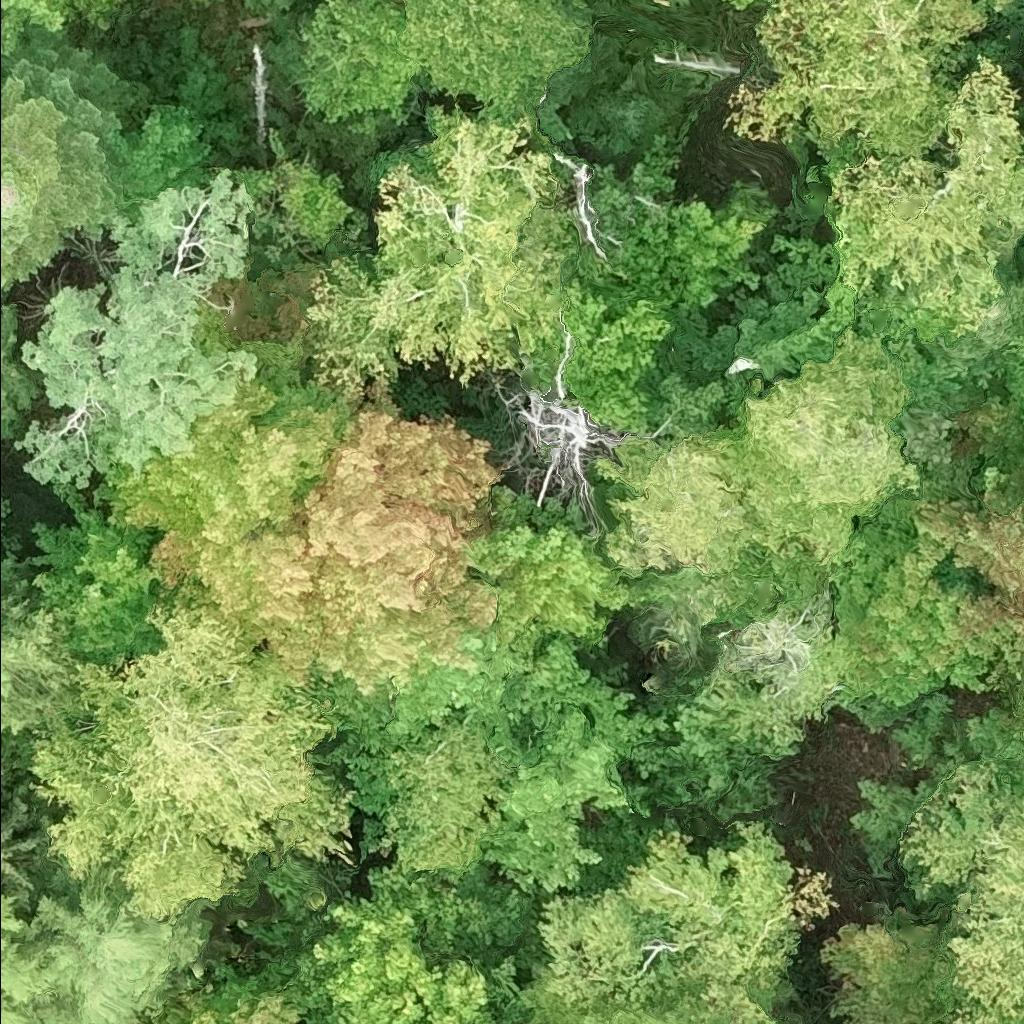crown: (110, 347, 498, 695), (28, 600, 361, 922), (307, 108, 572, 406), (19, 172, 264, 492), (518, 815, 799, 1023), (831, 55, 1023, 327), (828, 466, 1023, 711), (720, 336, 924, 558), (727, 0, 1004, 151), (564, 140, 777, 320), (303, 0, 592, 129), (906, 760, 1023, 1023), (0, 51, 127, 292), (30, 486, 171, 673), (29, 881, 210, 1023), (299, 903, 503, 1023), (600, 435, 770, 578), (375, 713, 519, 879), (523, 281, 676, 432), (470, 520, 630, 647), (492, 380, 618, 526), (0, 586, 76, 741), (825, 923, 936, 1023), (149, 981, 309, 1023), (0, 896, 46, 1023), (0, 303, 40, 437), (0, 0, 102, 48), (577, 1001, 701, 1023), (246, 0, 304, 15), (189, 0, 227, 4), (656, 0, 669, 7)
